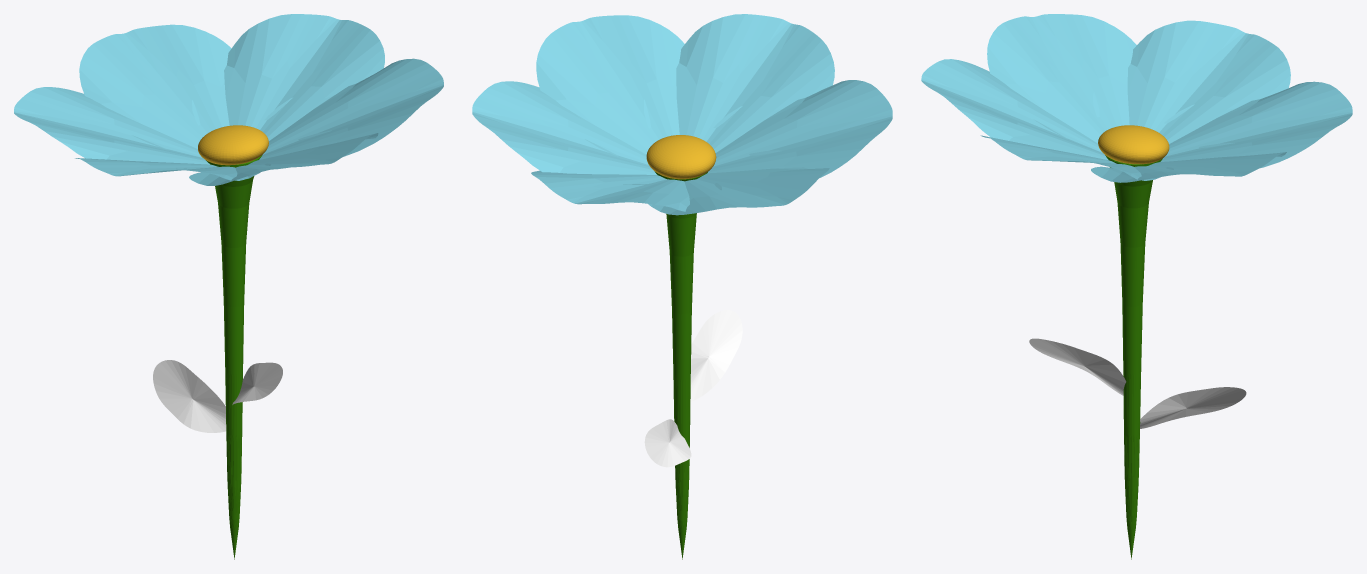
The model's file is flower.gltf.
The picture shows the model from 3 angles, left to right: view 1: azimuth 30°, elevation 25°; view 2: azimuth 150°, elevation 25°; view 3: azimuth 270°, elevation 25°; orthographic projection. The views are drawn at different scales.
Parts seen in each view (by area): view 1: Petals2, Stem, Leaf2, Pollen, Leaf1; view 2: Petals2, Stem, Leaf1, Pollen, Leaf2; view 3: Petals2, Stem, Leaf2, Pollen, Leaf1.
Part boxes in pixels (x1,y1,x2,y2): Petals2: [14, 14, 443, 185]; Stem: [206, 155, 262, 559]; Leaf2: [153, 360, 226, 432]; Pollen: [198, 125, 268, 165]; Leaf1: [232, 362, 282, 404]; Petals2: [472, 14, 892, 215]; Stem: [654, 171, 707, 559]; Leaf1: [690, 310, 742, 401]; Pollen: [646, 135, 716, 179]; Leaf2: [644, 419, 691, 467]; Petals2: [921, 14, 1352, 182]; Stem: [1105, 155, 1162, 559]; Leaf2: [1140, 387, 1246, 428]; Pollen: [1098, 125, 1169, 164]; Leaf1: [1029, 338, 1126, 395].
Bounding box in the file's own units: 4.37 × 5.88 × 4.76.
